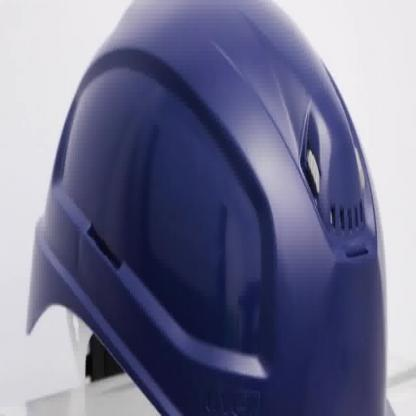helmet: (24, 0, 398, 415)
